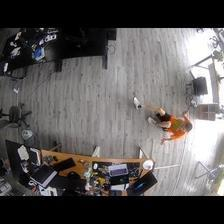fall: (129, 96, 193, 144)
